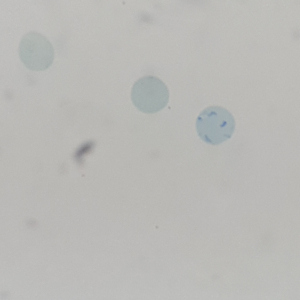aggregate reticulocyte: (194, 104, 238, 147)
erythrocyte: (129, 74, 172, 116), (17, 31, 55, 73)
